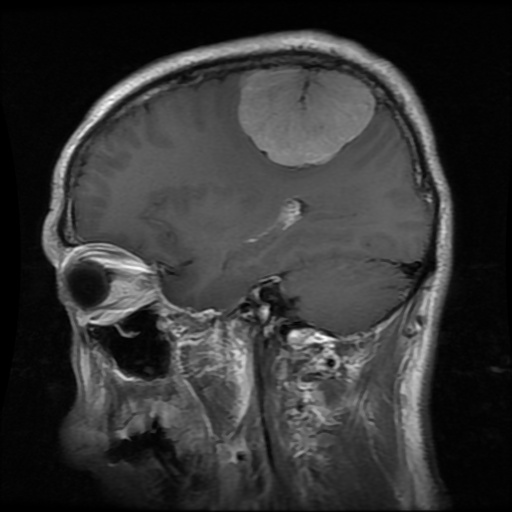meningioma: (235, 68, 375, 166)
